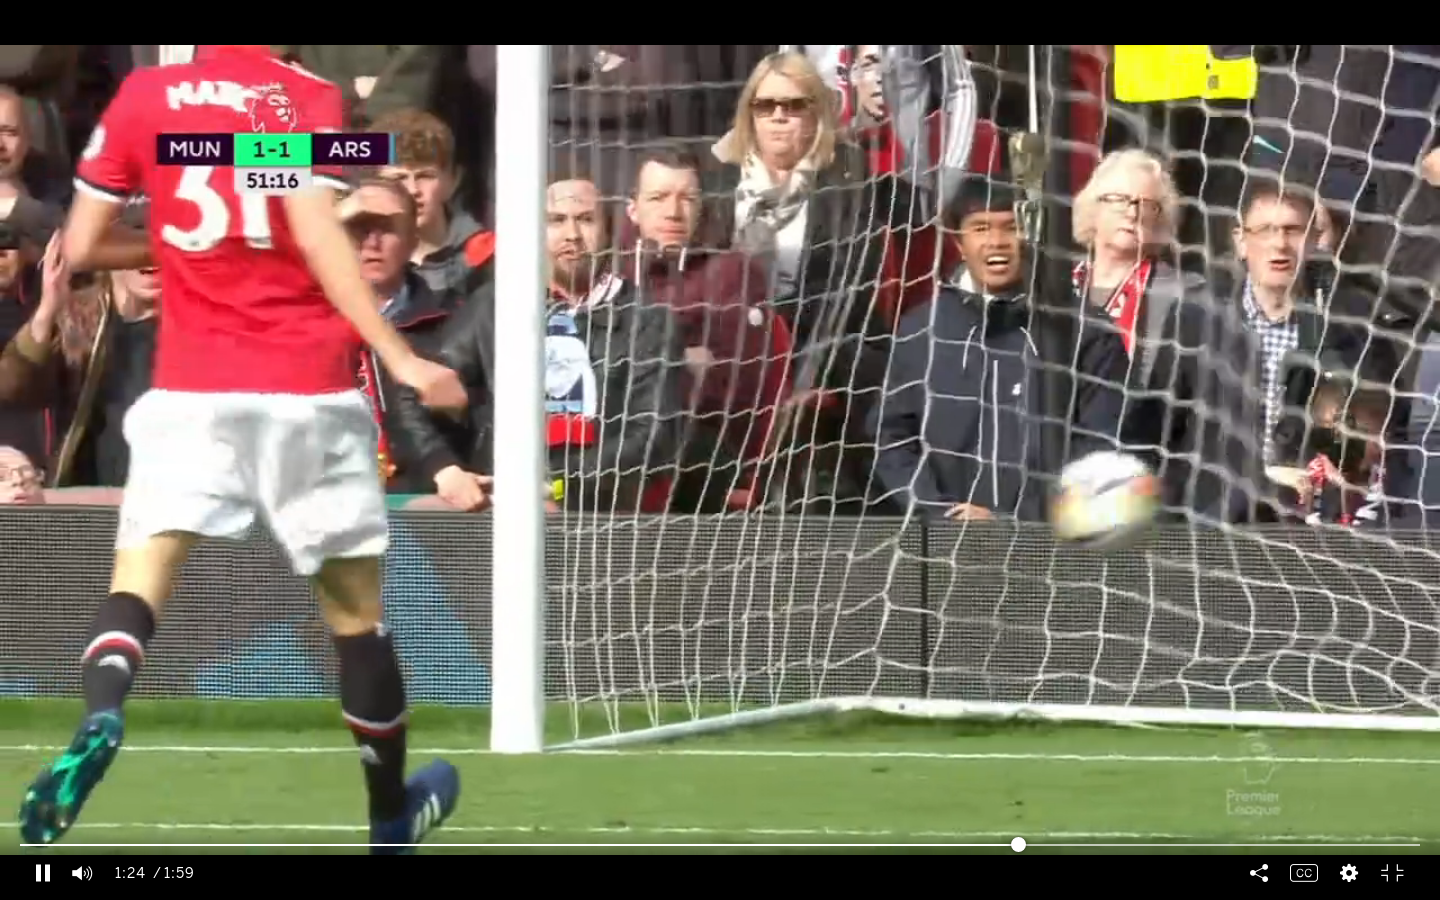soccer player: (16, 48, 498, 843)
soccerball: (1042, 442, 1172, 566)
